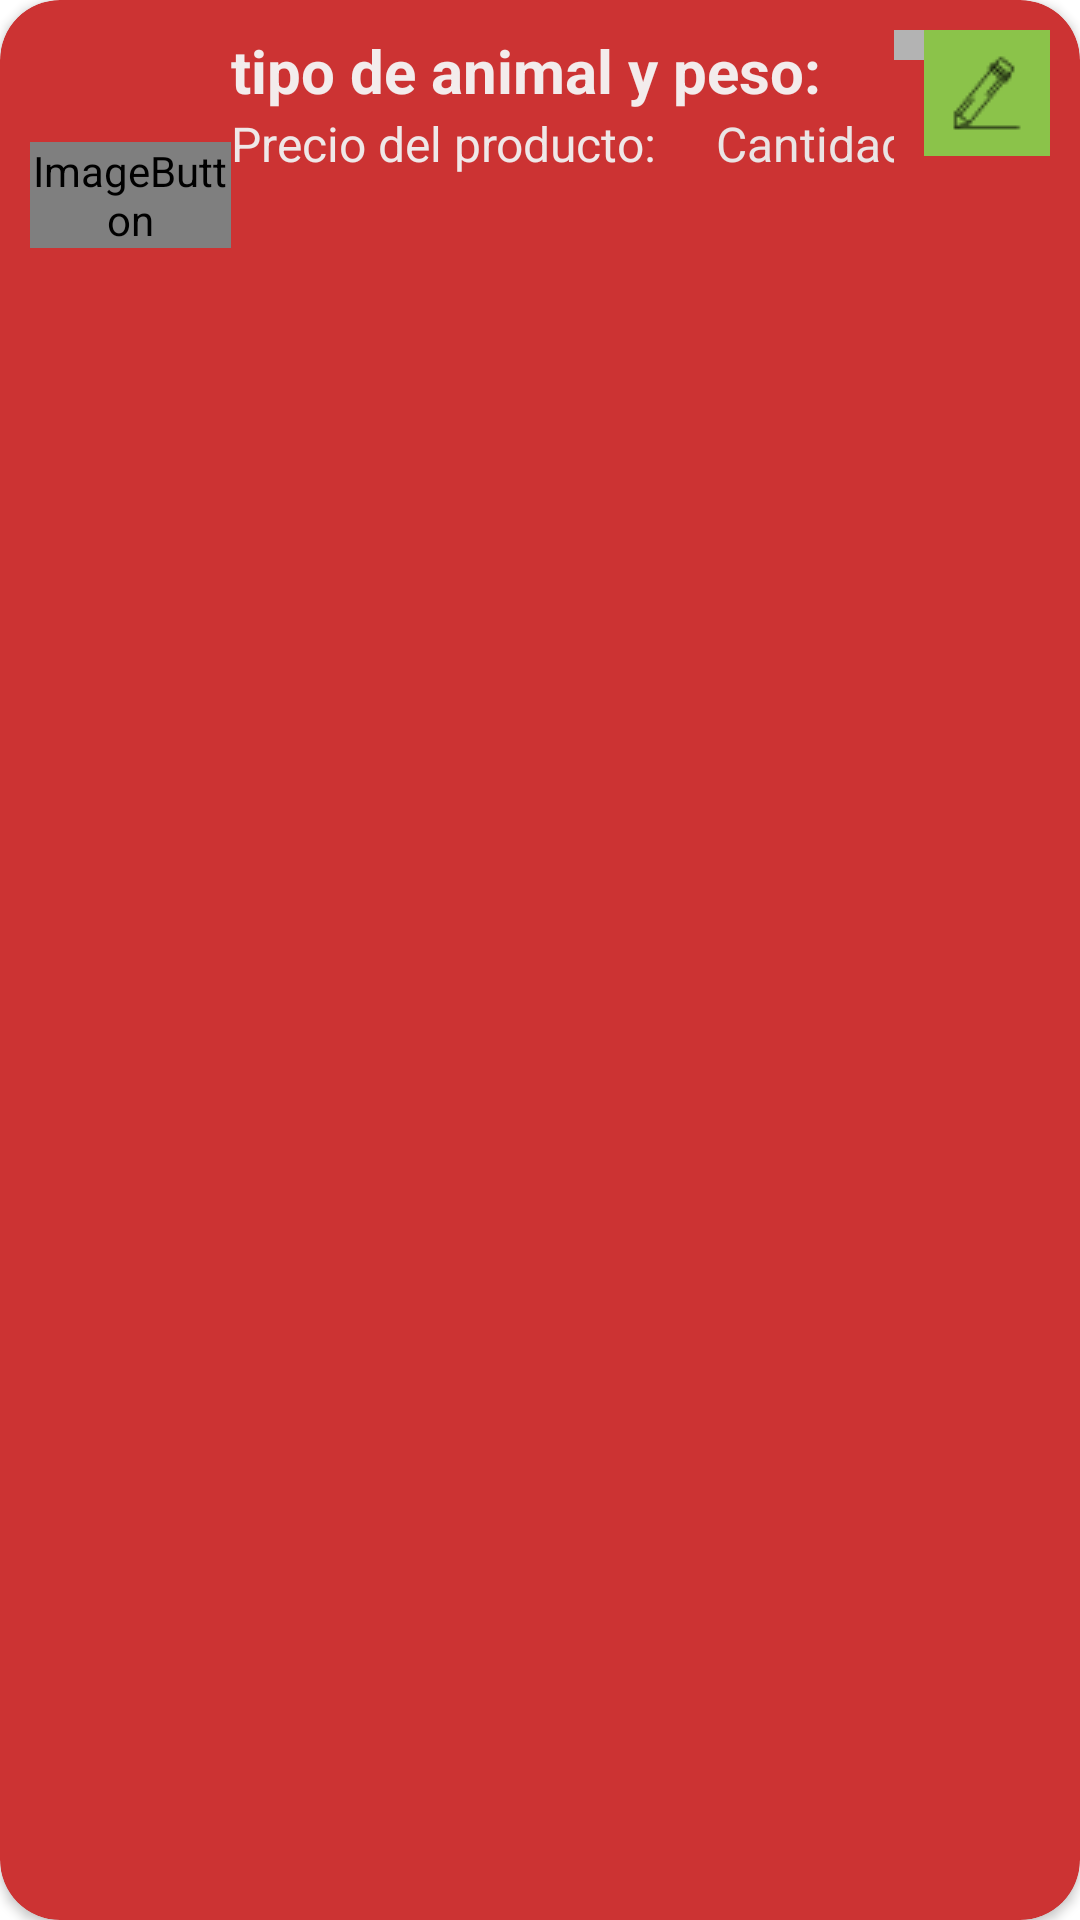

Locate icon controls on the screen. Image size 1080 x 1920, boxes as (x1, y1, x2, y2).
lapiz: (924, 30, 1050, 156)
